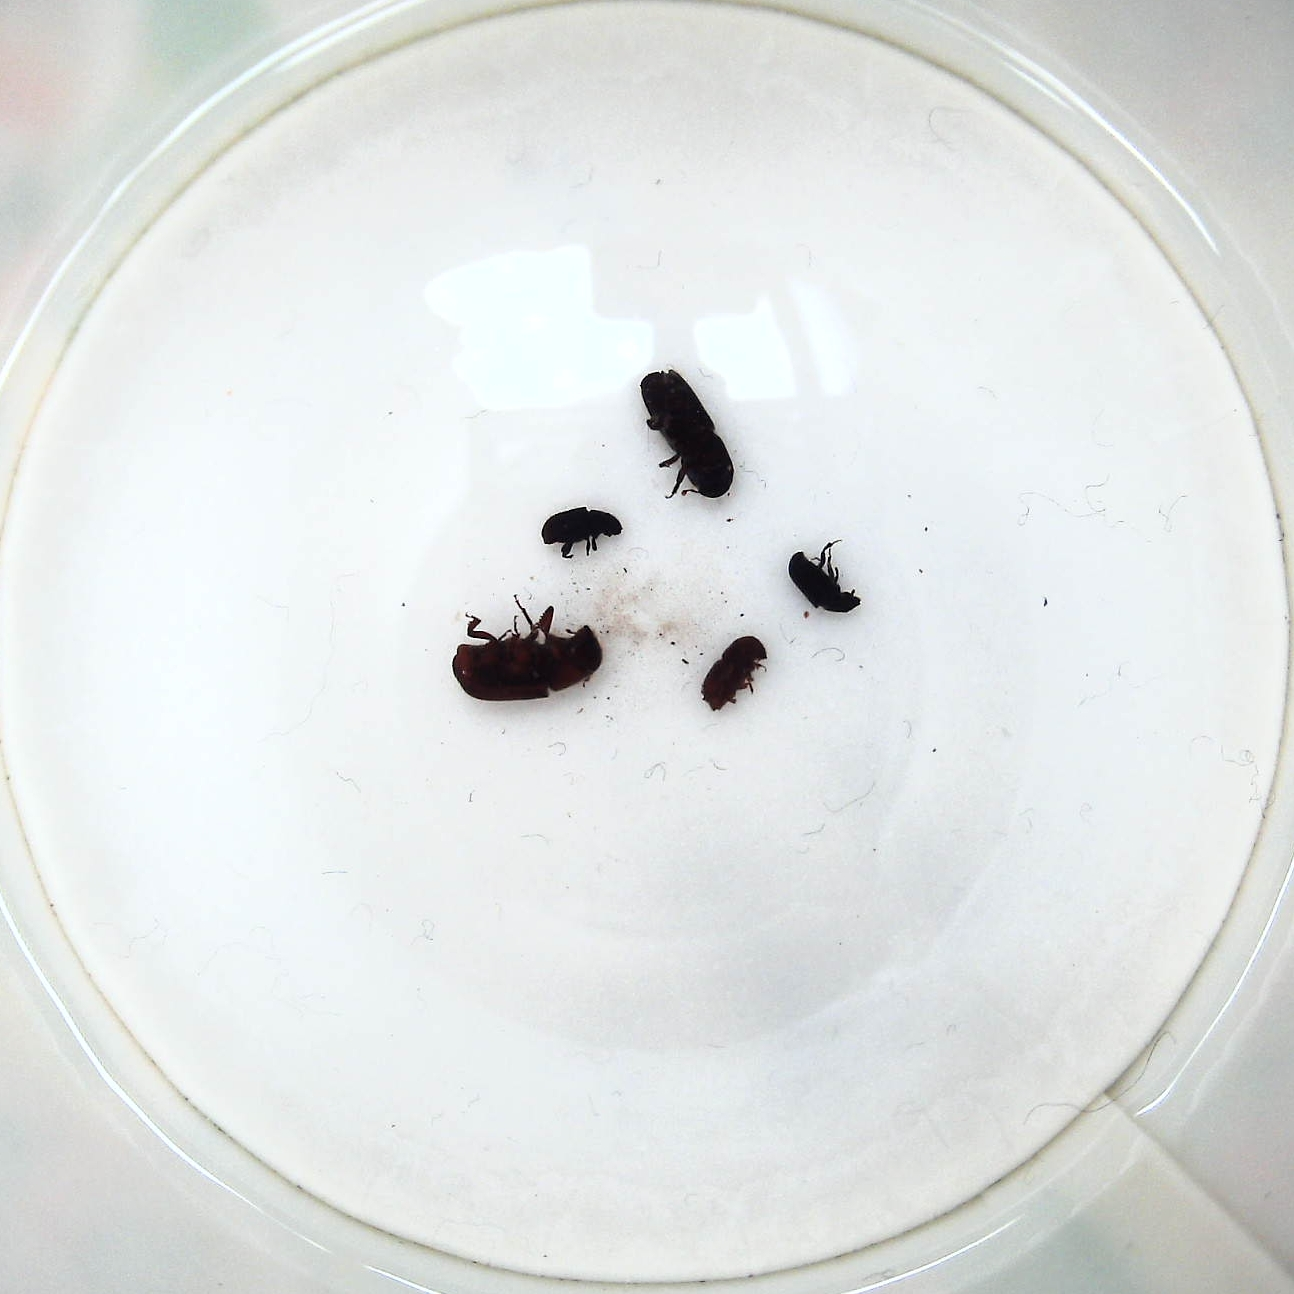Boerner: (638, 367, 737, 506)
Leconte: (451, 596, 611, 707)
armandi: (533, 508, 620, 562)
coleoptera: (786, 532, 861, 620)
linnaeus: (698, 630, 774, 715)
